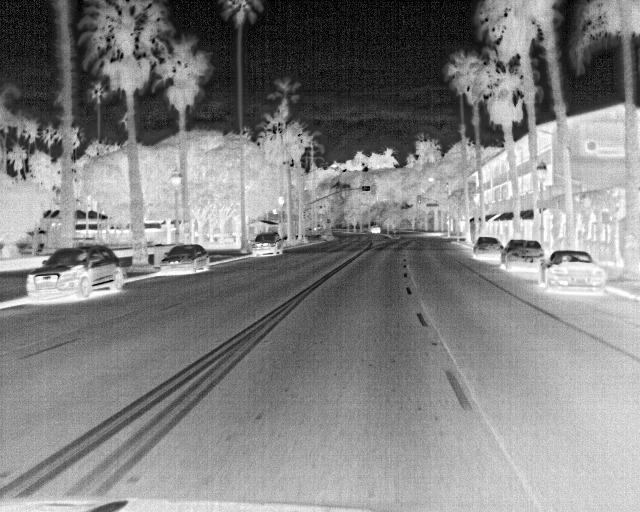car: (25, 243, 126, 303), (541, 249, 605, 290), (159, 244, 210, 275), (501, 238, 543, 273), (469, 237, 503, 260), (250, 233, 282, 257), (369, 223, 383, 234)
